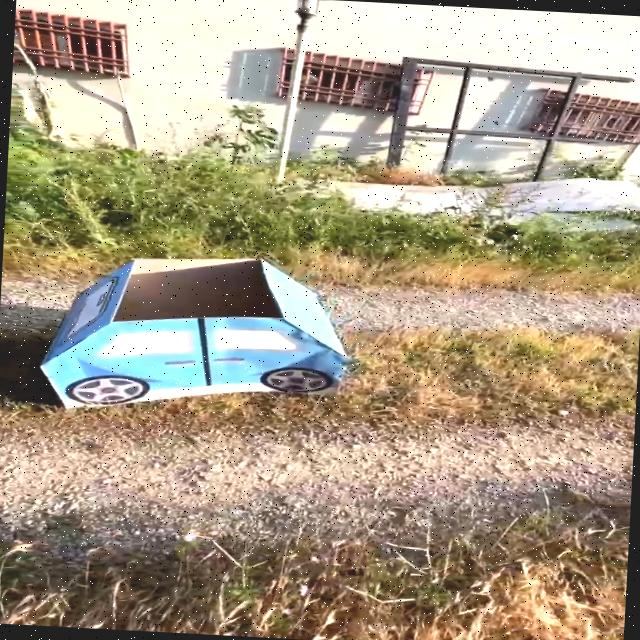blue_car: (0, 207, 412, 462)
